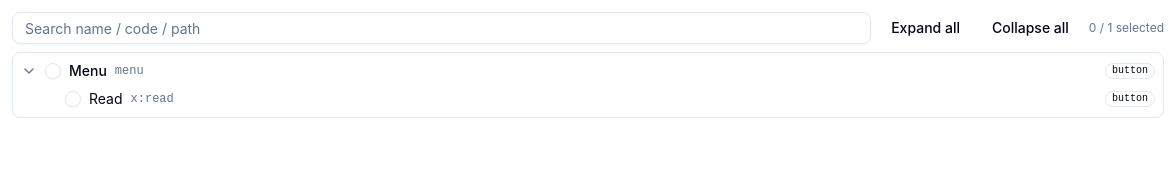
Test case: PermissionTreeSelect 展开 / 收起按钮 › 悬停显示与 aria-label 一致的提示，切换后文案随之变化
Hover over the button named "Collapse" at (29, 71), box [21,63,37,79]
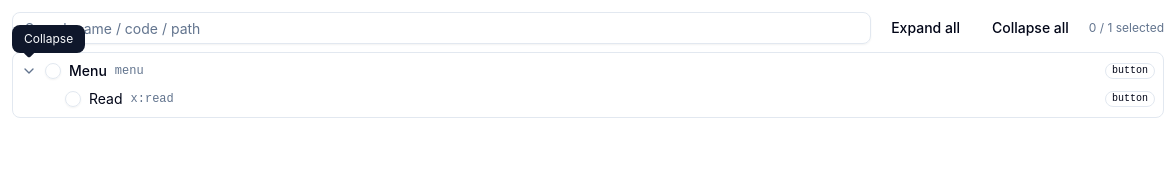
Check: the tooltip "Collapse" is shown, box [12,25,85,53]
Click the button named "Collapse" at (29, 71), box [21,63,37,79]
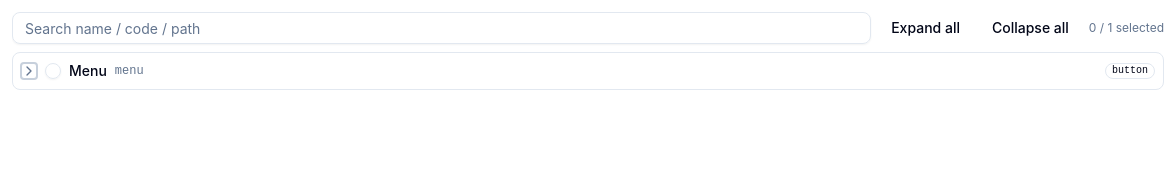
Check: the button named "Expand" is shown
Hover over the button named "Expand" at (29, 71), box [21,63,37,79]
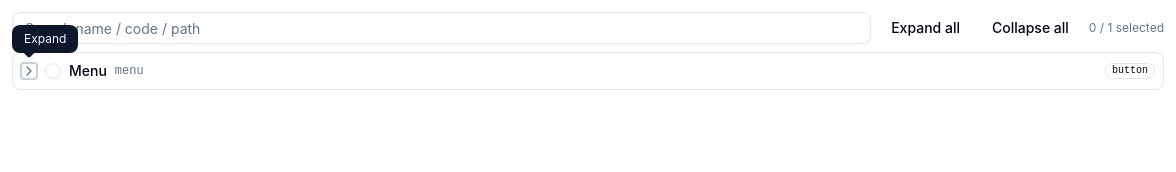
Check: the tooltip "Expand" is shown, box [12,25,78,53]
